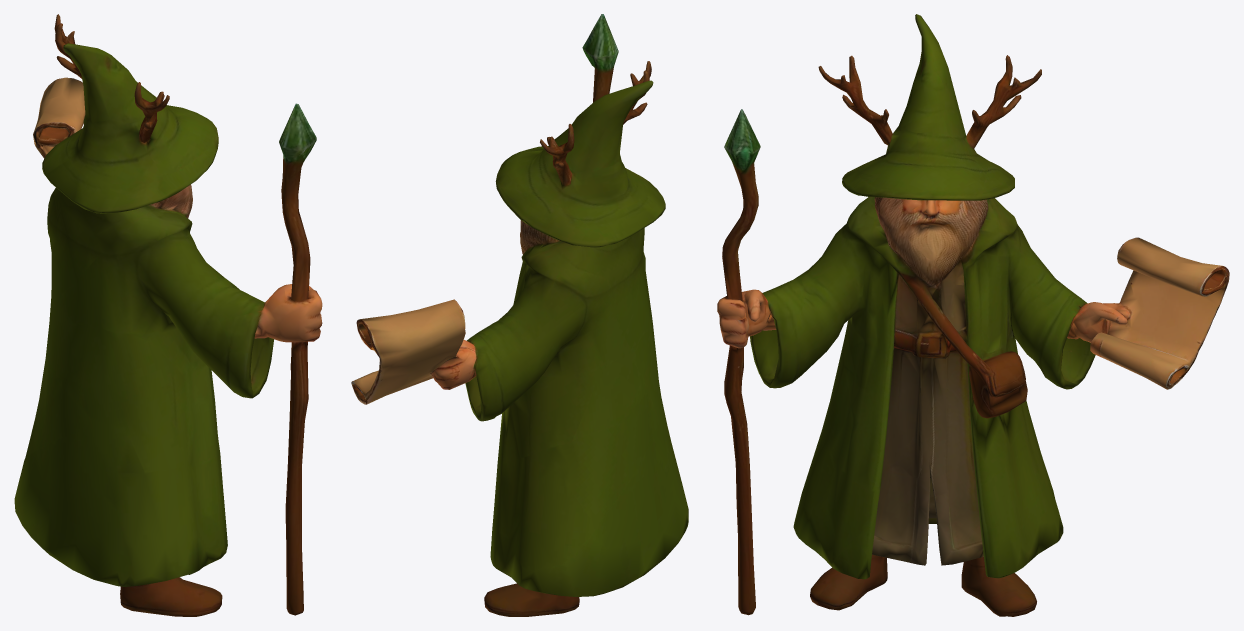
3 views of the same model, side by side, from view 1: azimuth 30°, elevation 25°; view 2: azimuth 150°, elevation 25°; view 3: azimuth 270°, elevation 25° (orthographic). The views are drawn at different scales.
Parts seen in each view (by area): view 1: tripo_node_f7ac719f-af61-4605-af65-0eb7f9caebca; view 2: tripo_node_f7ac719f-af61-4605-af65-0eb7f9caebca; view 3: tripo_node_f7ac719f-af61-4605-af65-0eb7f9caebca.
Part boxes in pixels (x1,y1,x2,y2): tripo_node_f7ac719f-af61-4605-af65-0eb7f9caebca: (14, 14, 322, 616); tripo_node_f7ac719f-af61-4605-af65-0eb7f9caebca: (351, 14, 688, 616); tripo_node_f7ac719f-af61-4605-af65-0eb7f9caebca: (717, 14, 1229, 616).
Size of the model in its own units: 0.3728 by 0.9996 by 0.851.
Materials: 1 (1 with a texture image).
